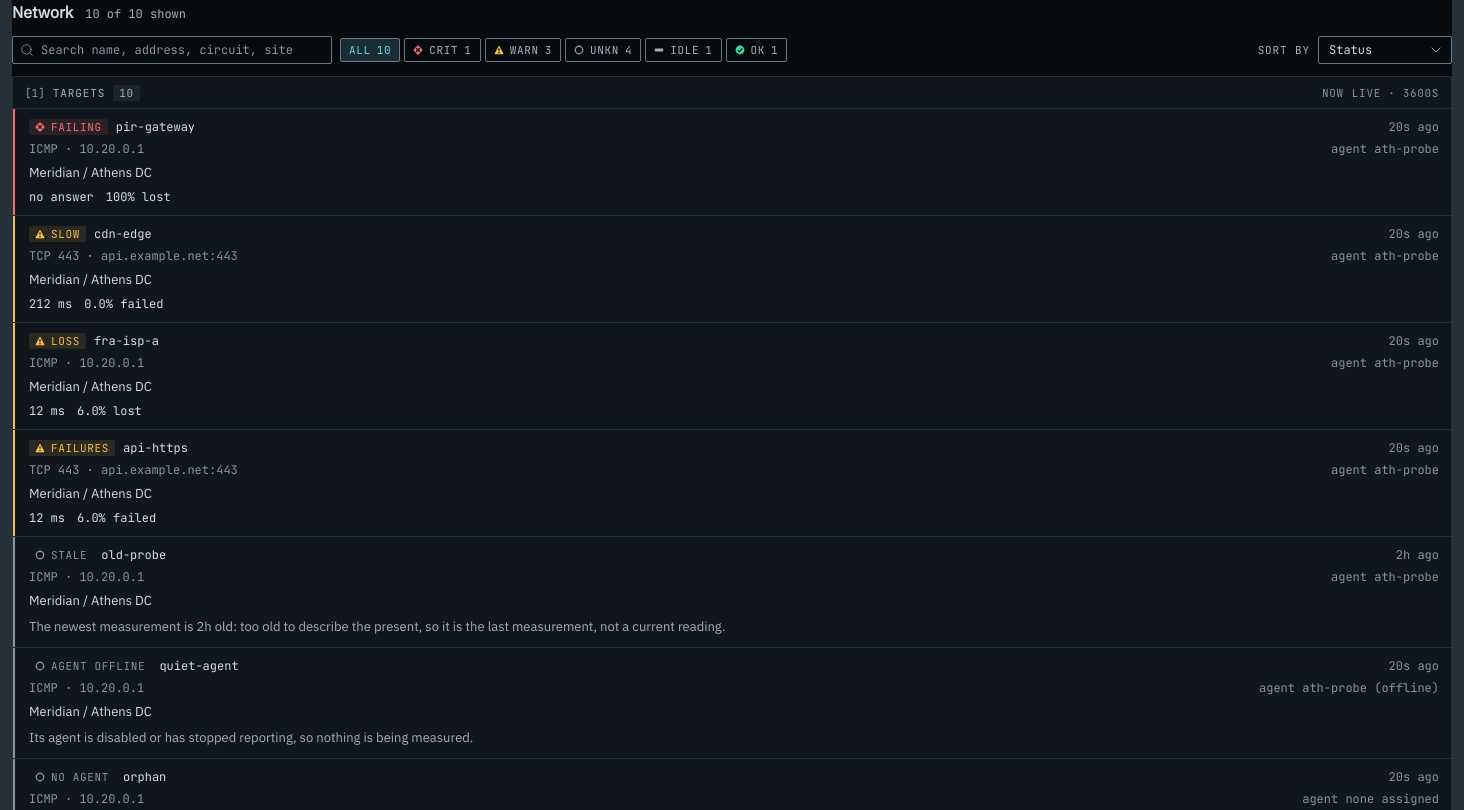
Scenario: on a phone › becomes cards with a sort menu, keeping the word, the protocol-specific loss and the reason
The image size is (1464, 810).
Expected: the text "6.0% failed" is shown, [77,510,156,526]
Expected: the text "6.0% lost" is shown, [77,403,142,419]
Select "Latency" in the dropdown labelled "Sort by": (1385, 50) [1318,36,1452,64]
(page scrolled)
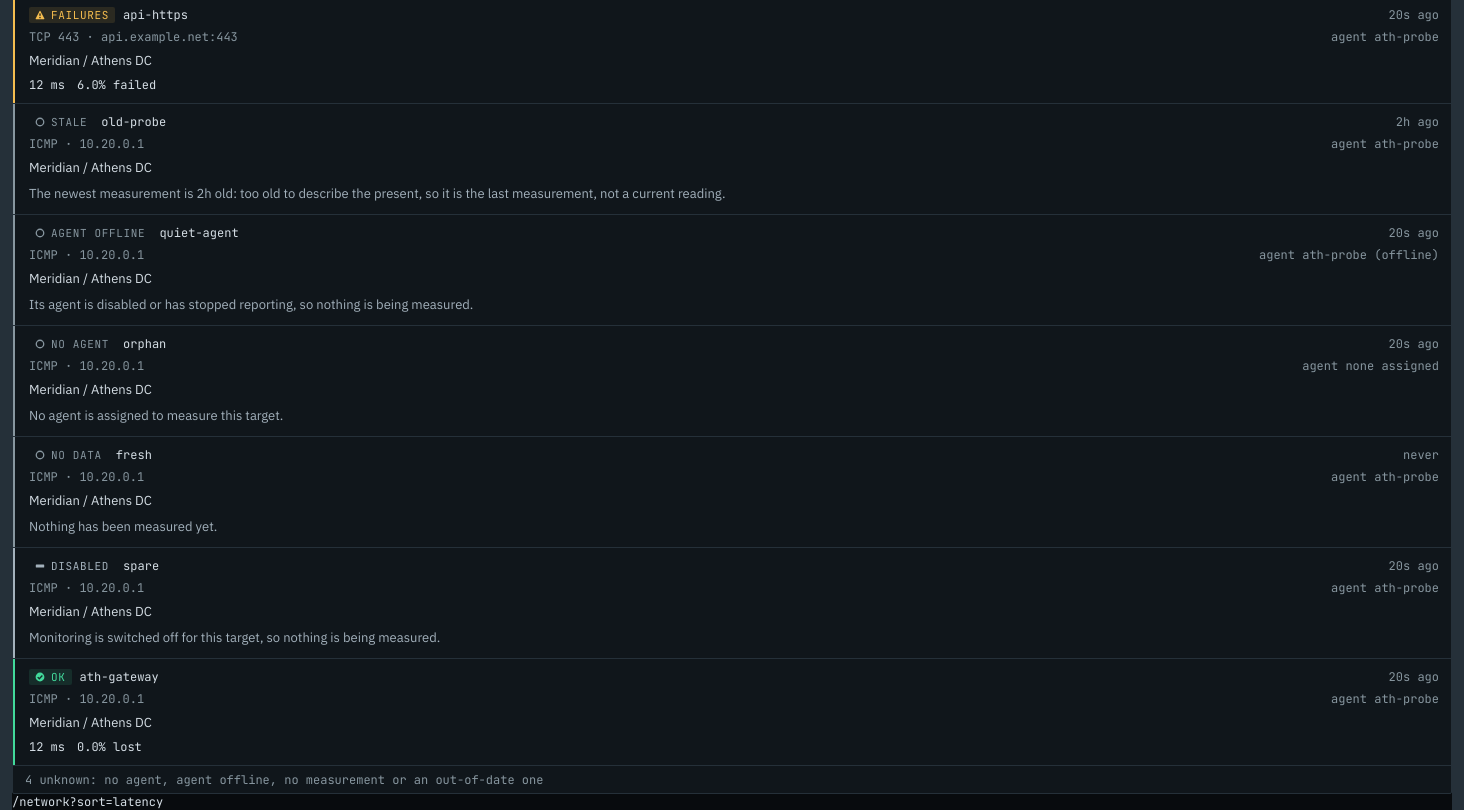
Now the text named "location" shows "sort=latency", box [12,794,163,809]
